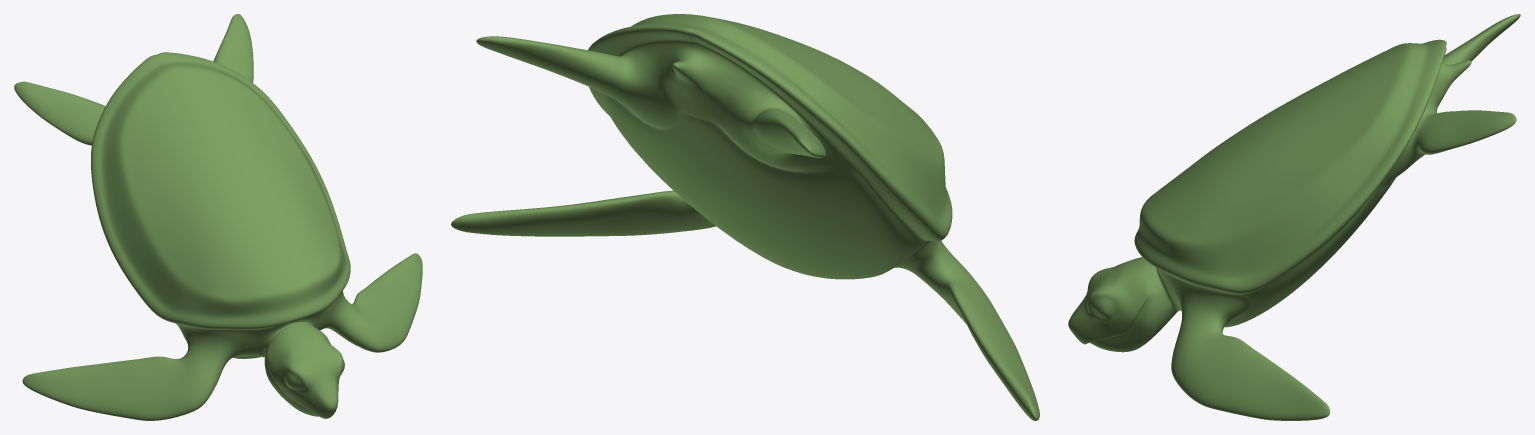
The model's file is SeaTurtle.fbx.
3 views of the same model, side by side, from view 1: azimuth 30°, elevation 25°; view 2: azimuth 150°, elevation 25°; view 3: azimuth 270°, elevation 25° (orthographic). The views are drawn at different scales.
Visible parts, largest first — view 1: seaturtle; view 2: seaturtle; view 3: seaturtle.
Part boxes in pixels (x1=…): seaturtle: x1=14, y1=14, x2=422, y2=420; seaturtle: x1=451, y1=14, x2=1039, y2=420; seaturtle: x1=1068, y1=14, x2=1520, y2=420.
Bounding box in the file's own units: 4134 × 2659 × 3563.
